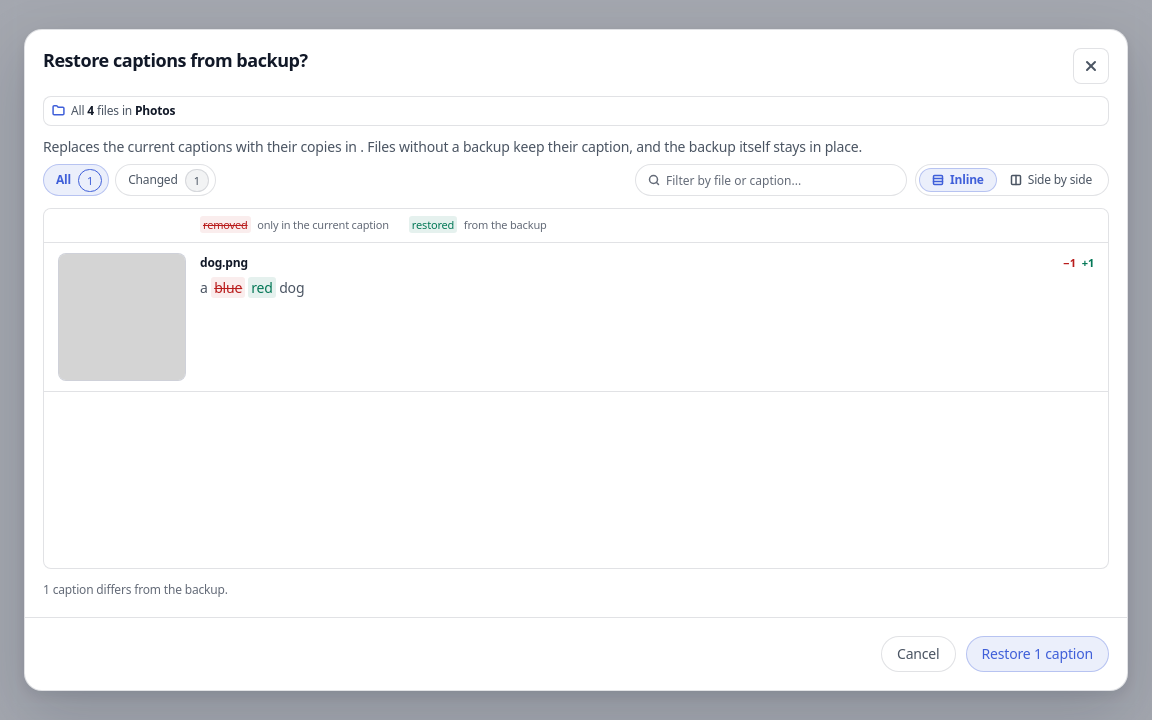
Test: RestoreCaptionsDialog › switches to a side-by-side diff and remembers the choice
Expected: the number of elements with class "caption-diff" is 1, x1=200 y1=277 x2=304 y2=298
Expected: the text "removed only in the current caption" is shown, x1=200 y1=217 x2=389 y2=234
What coordinates should you click on to do the following:
click the radio button labelled "Side by side"
I would click on:
 (1051, 180)
Its box is x1=1010 y1=171 x2=1092 y2=188.
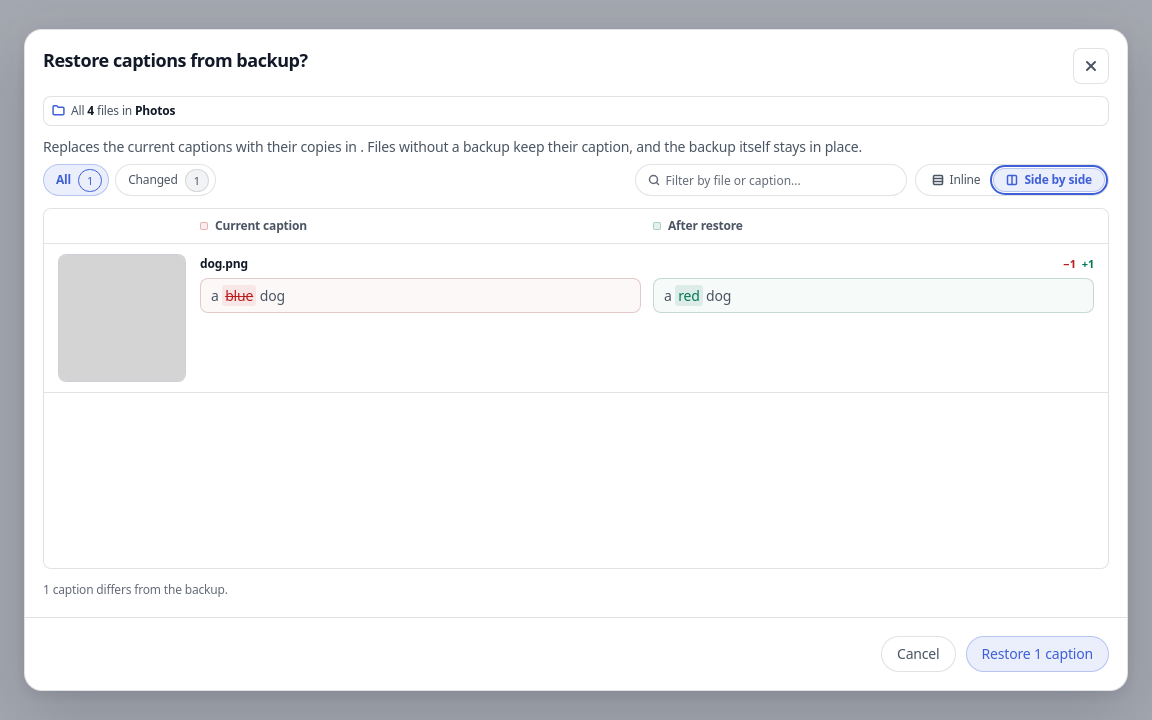
Expected: the element with class "caption-diff" reads "a blue dog", x1=200 y1=278 x2=641 y2=313
Expected: the element with class "caption-diff" reads "a red dog", x1=653 y1=278 x2=1094 y2=313
Expected: the text "After restore" is shown, x1=668 y1=217 x2=743 y2=234
